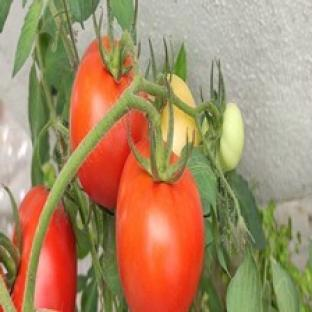Tomato: (116, 154, 203, 311), (70, 41, 133, 150), (12, 186, 48, 310), (218, 104, 243, 171), (173, 106, 199, 155)
